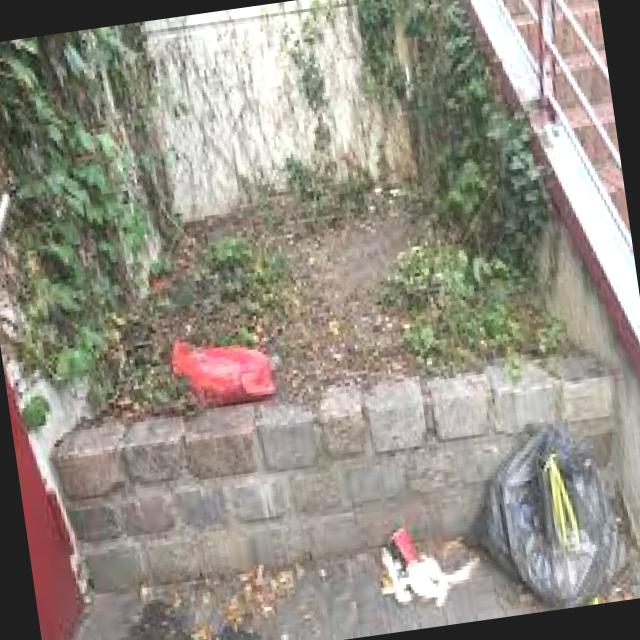garbage: (357, 399, 640, 634), (139, 312, 288, 424)
